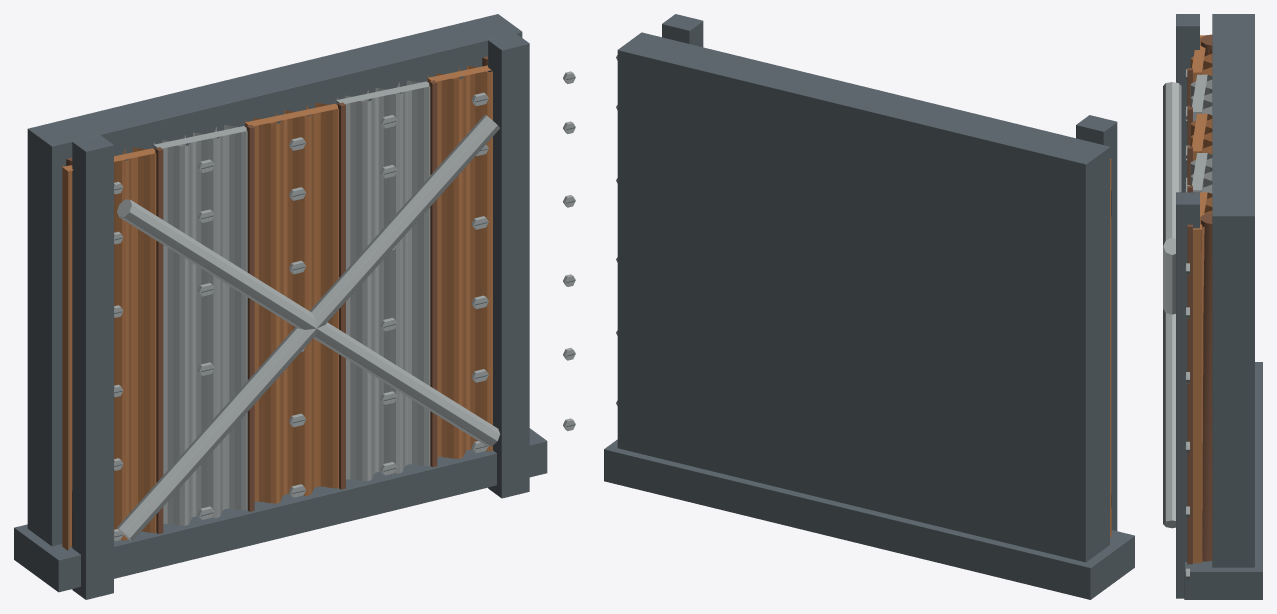
The model's file is 06_Scrap_Metal_Wall.fbx.
3 renders of one model, left to right at view 1: azimuth 30°, elevation 25°; view 2: azimuth 150°, elevation 25°; view 3: azimuth 270°, elevation 25°, orthographic. The views are drawn at different scales.
Parts seen in each view (by area): view 1: 06_Scrap_Metal_Wall; view 2: 06_Scrap_Metal_Wall; view 3: 06_Scrap_Metal_Wall.
Boxes of the visible parts, <box> form: 06_Scrap_Metal_Wall: <box>14,14,575,599</box>; 06_Scrap_Metal_Wall: <box>604,14,1134,599</box>; 06_Scrap_Metal_Wall: <box>1163,14,1262,599</box>.
Bounding box in the file's own units: 3.69 × 3.05 × 0.6997.
